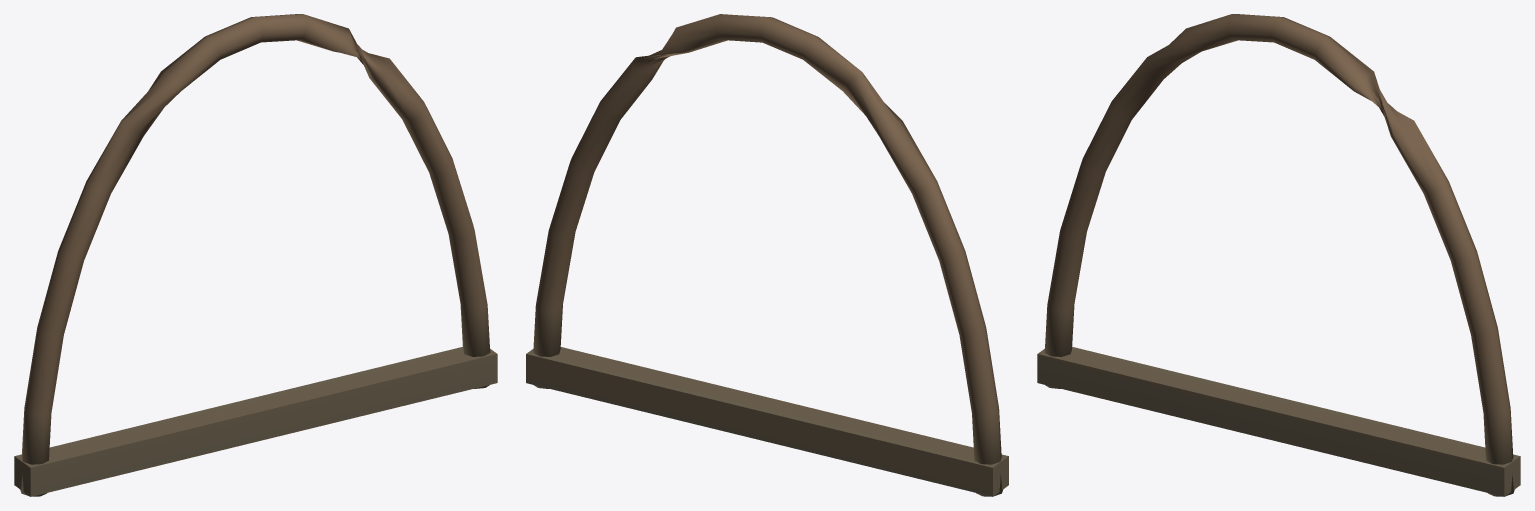
File: Ship_Rib.glb
3 views of the same model, side by side, from view 1: azimuth 30°, elevation 25°; view 2: azimuth 150°, elevation 25°; view 3: azimuth 330°, elevation 25° (orthographic).
Parts seen in each view (by area): view 1: Ship_Rib; view 2: Ship_Rib; view 3: Ship_Rib.
Part boxes in pixels (x1=…): Ship_Rib: x1=14, y1=14, x2=497, y2=496; Ship_Rib: x1=526, y1=14, x2=1008, y2=496; Ship_Rib: x1=1037, y1=14, x2=1520, y2=496.
Bounding box in the file's own units: 8.44 × 7.23 × 0.5.
